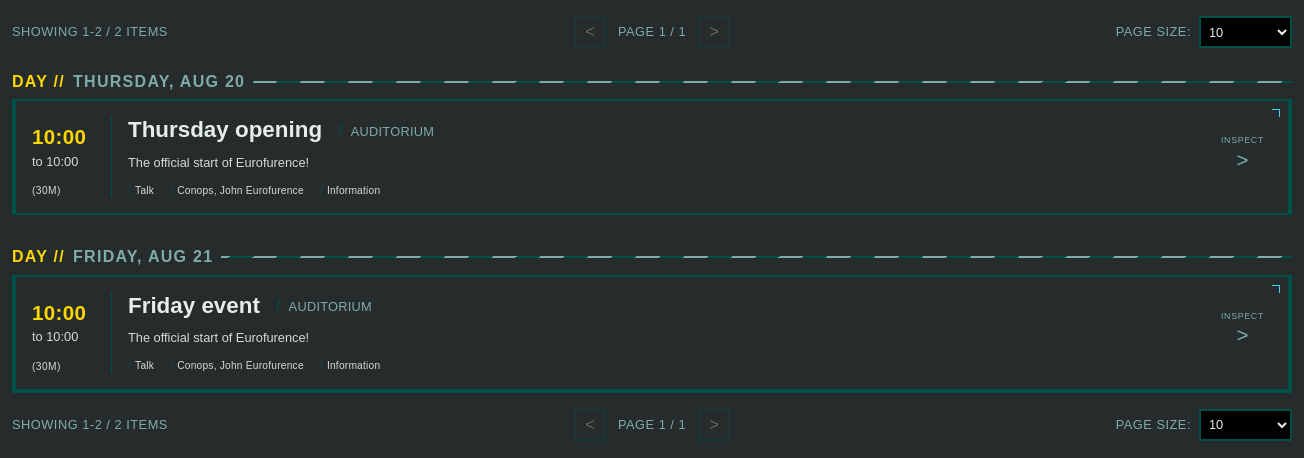
Components / ListView › FULL DAY pages › should show one schedule day per page with filtered/total counts
Select "FULL DAY" in the dropdown named "Page size (top)": coordinates (1246, 32) left=1199, top=16, right=1292, bottom=48
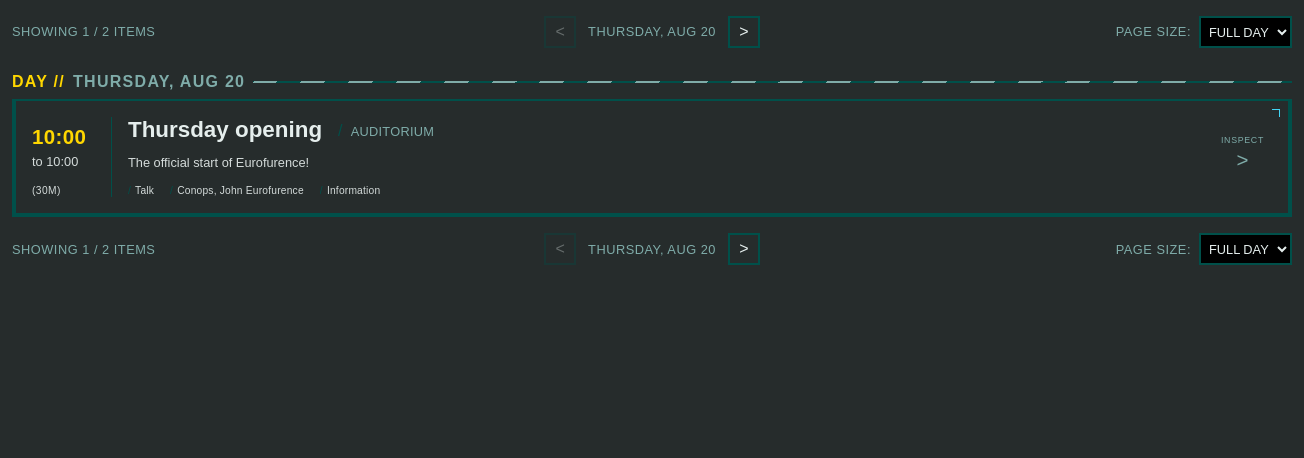
Check: the 1st text "Showing 1 / 2 items" is shown, box left=12, top=24, right=155, bottom=39
Check: the 1st text "Thursday, Aug 20" is shown, box left=584, top=24, right=720, bottom=40
Check: the 2nd text "Showing 1 / 2 items" is shown, box left=12, top=242, right=155, bottom=257
Click the button named "Next page (bottom)": coordinates (744, 249) left=728, top=233, right=760, bottom=265
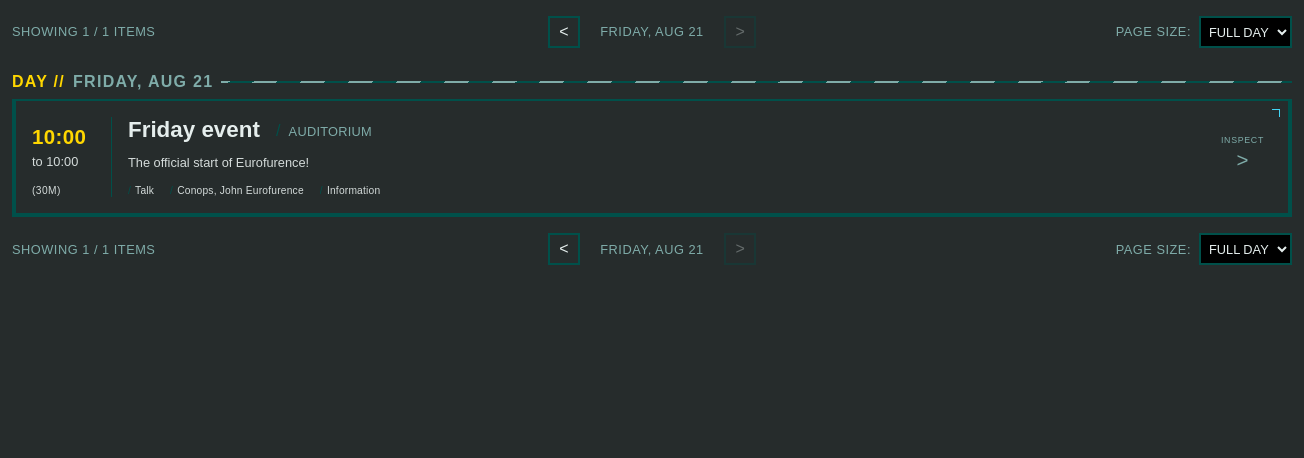
Check: the heading "Friday event" is shown, box left=128, top=117, right=260, bottom=144
Check: the link "Thursday opening" is gone
Check: the 1st text "Showing 1 / 1 items" is shown, box left=12, top=24, right=155, bottom=39
